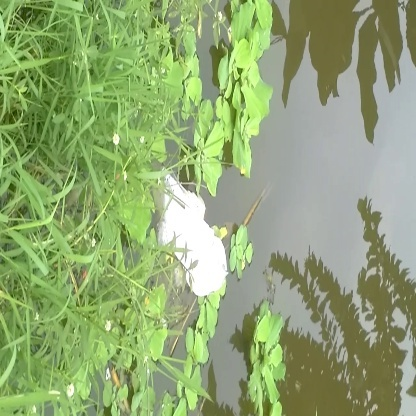plastic-bag: (162, 179, 237, 296)
